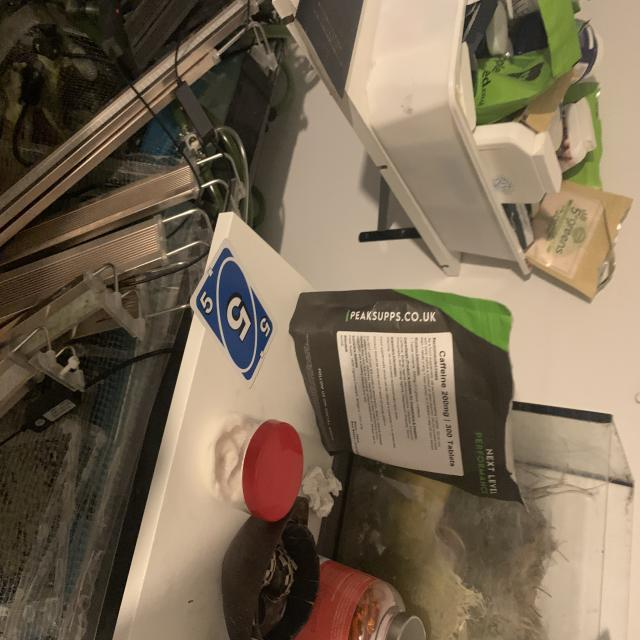lblue-5: (197, 284, 218, 320)
